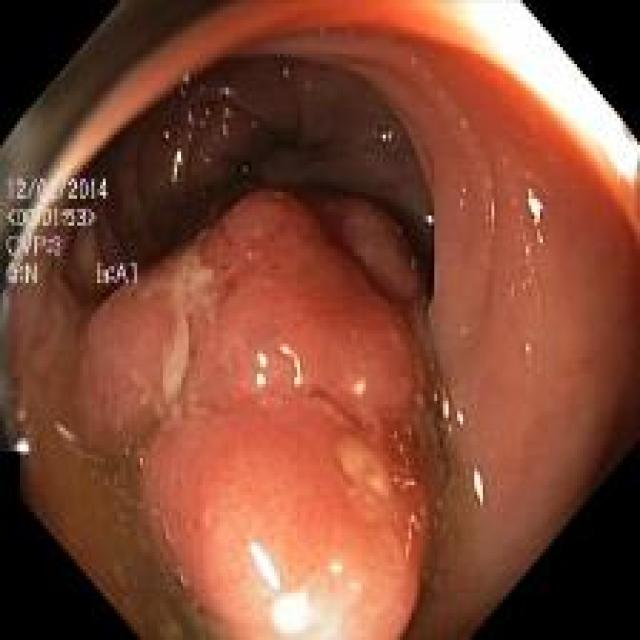Polyps: (79, 192, 442, 639)
